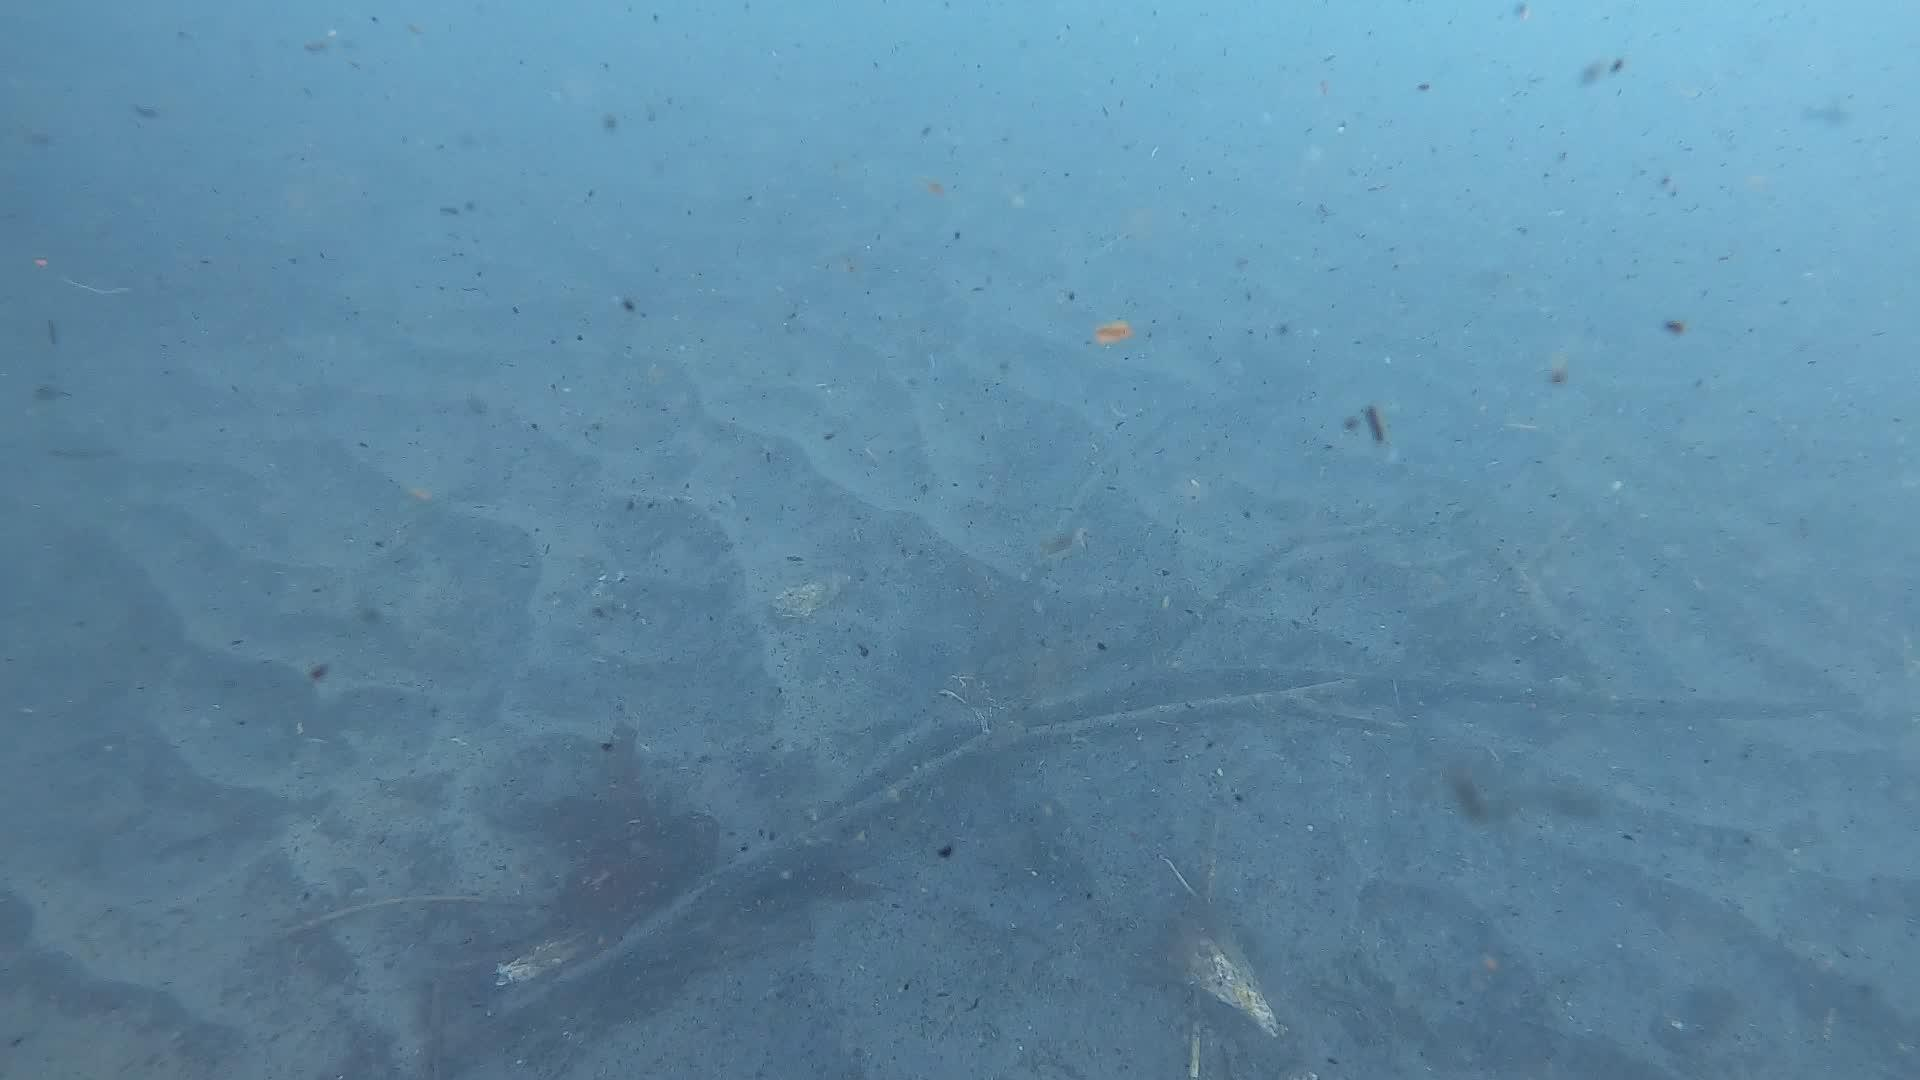wood: (439, 407, 1822, 1054)
